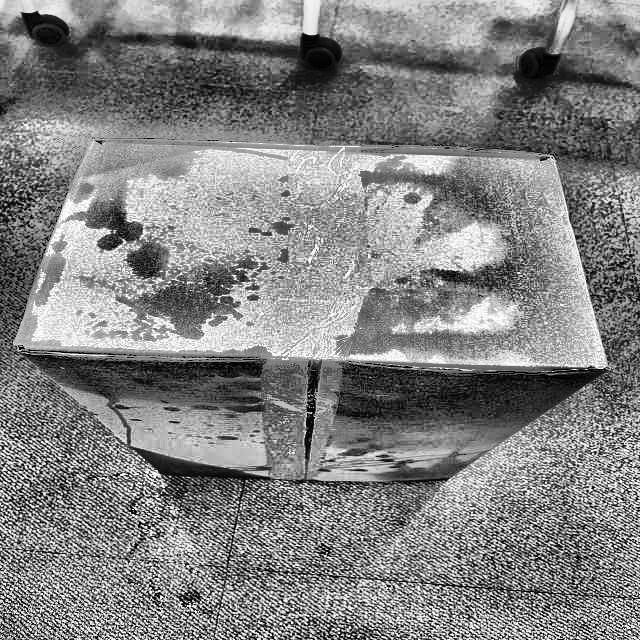box: (4, 125, 623, 497)
wet: (385, 138, 610, 369), (339, 372, 605, 470), (29, 336, 281, 436), (70, 122, 227, 194)
